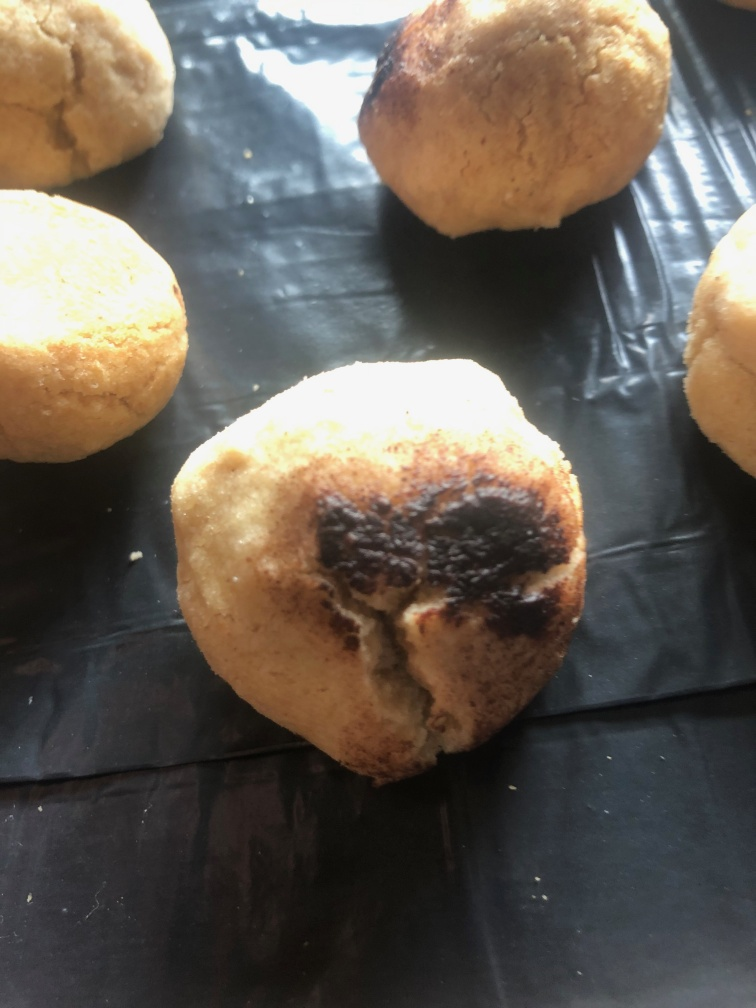snowball: (167, 354, 588, 768), (364, 1, 673, 232), (1, 188, 189, 461), (4, 1, 176, 186)
